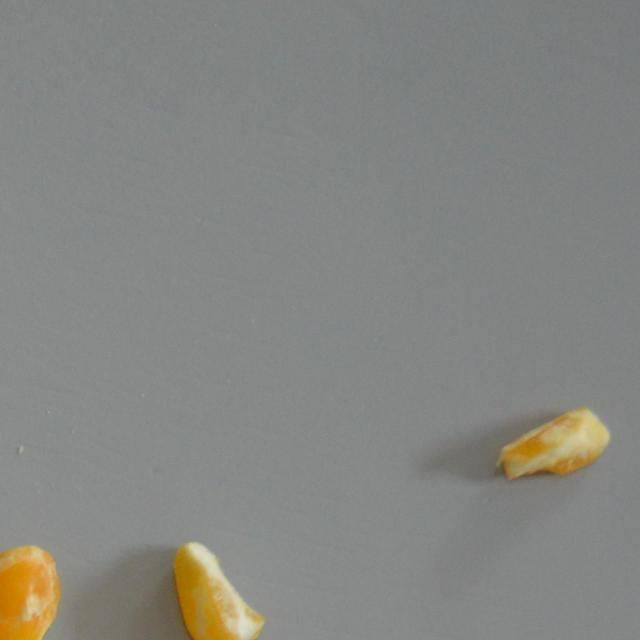dañado: (490, 399, 614, 484), (0, 542, 63, 640)
pelicula: (170, 534, 266, 640)
